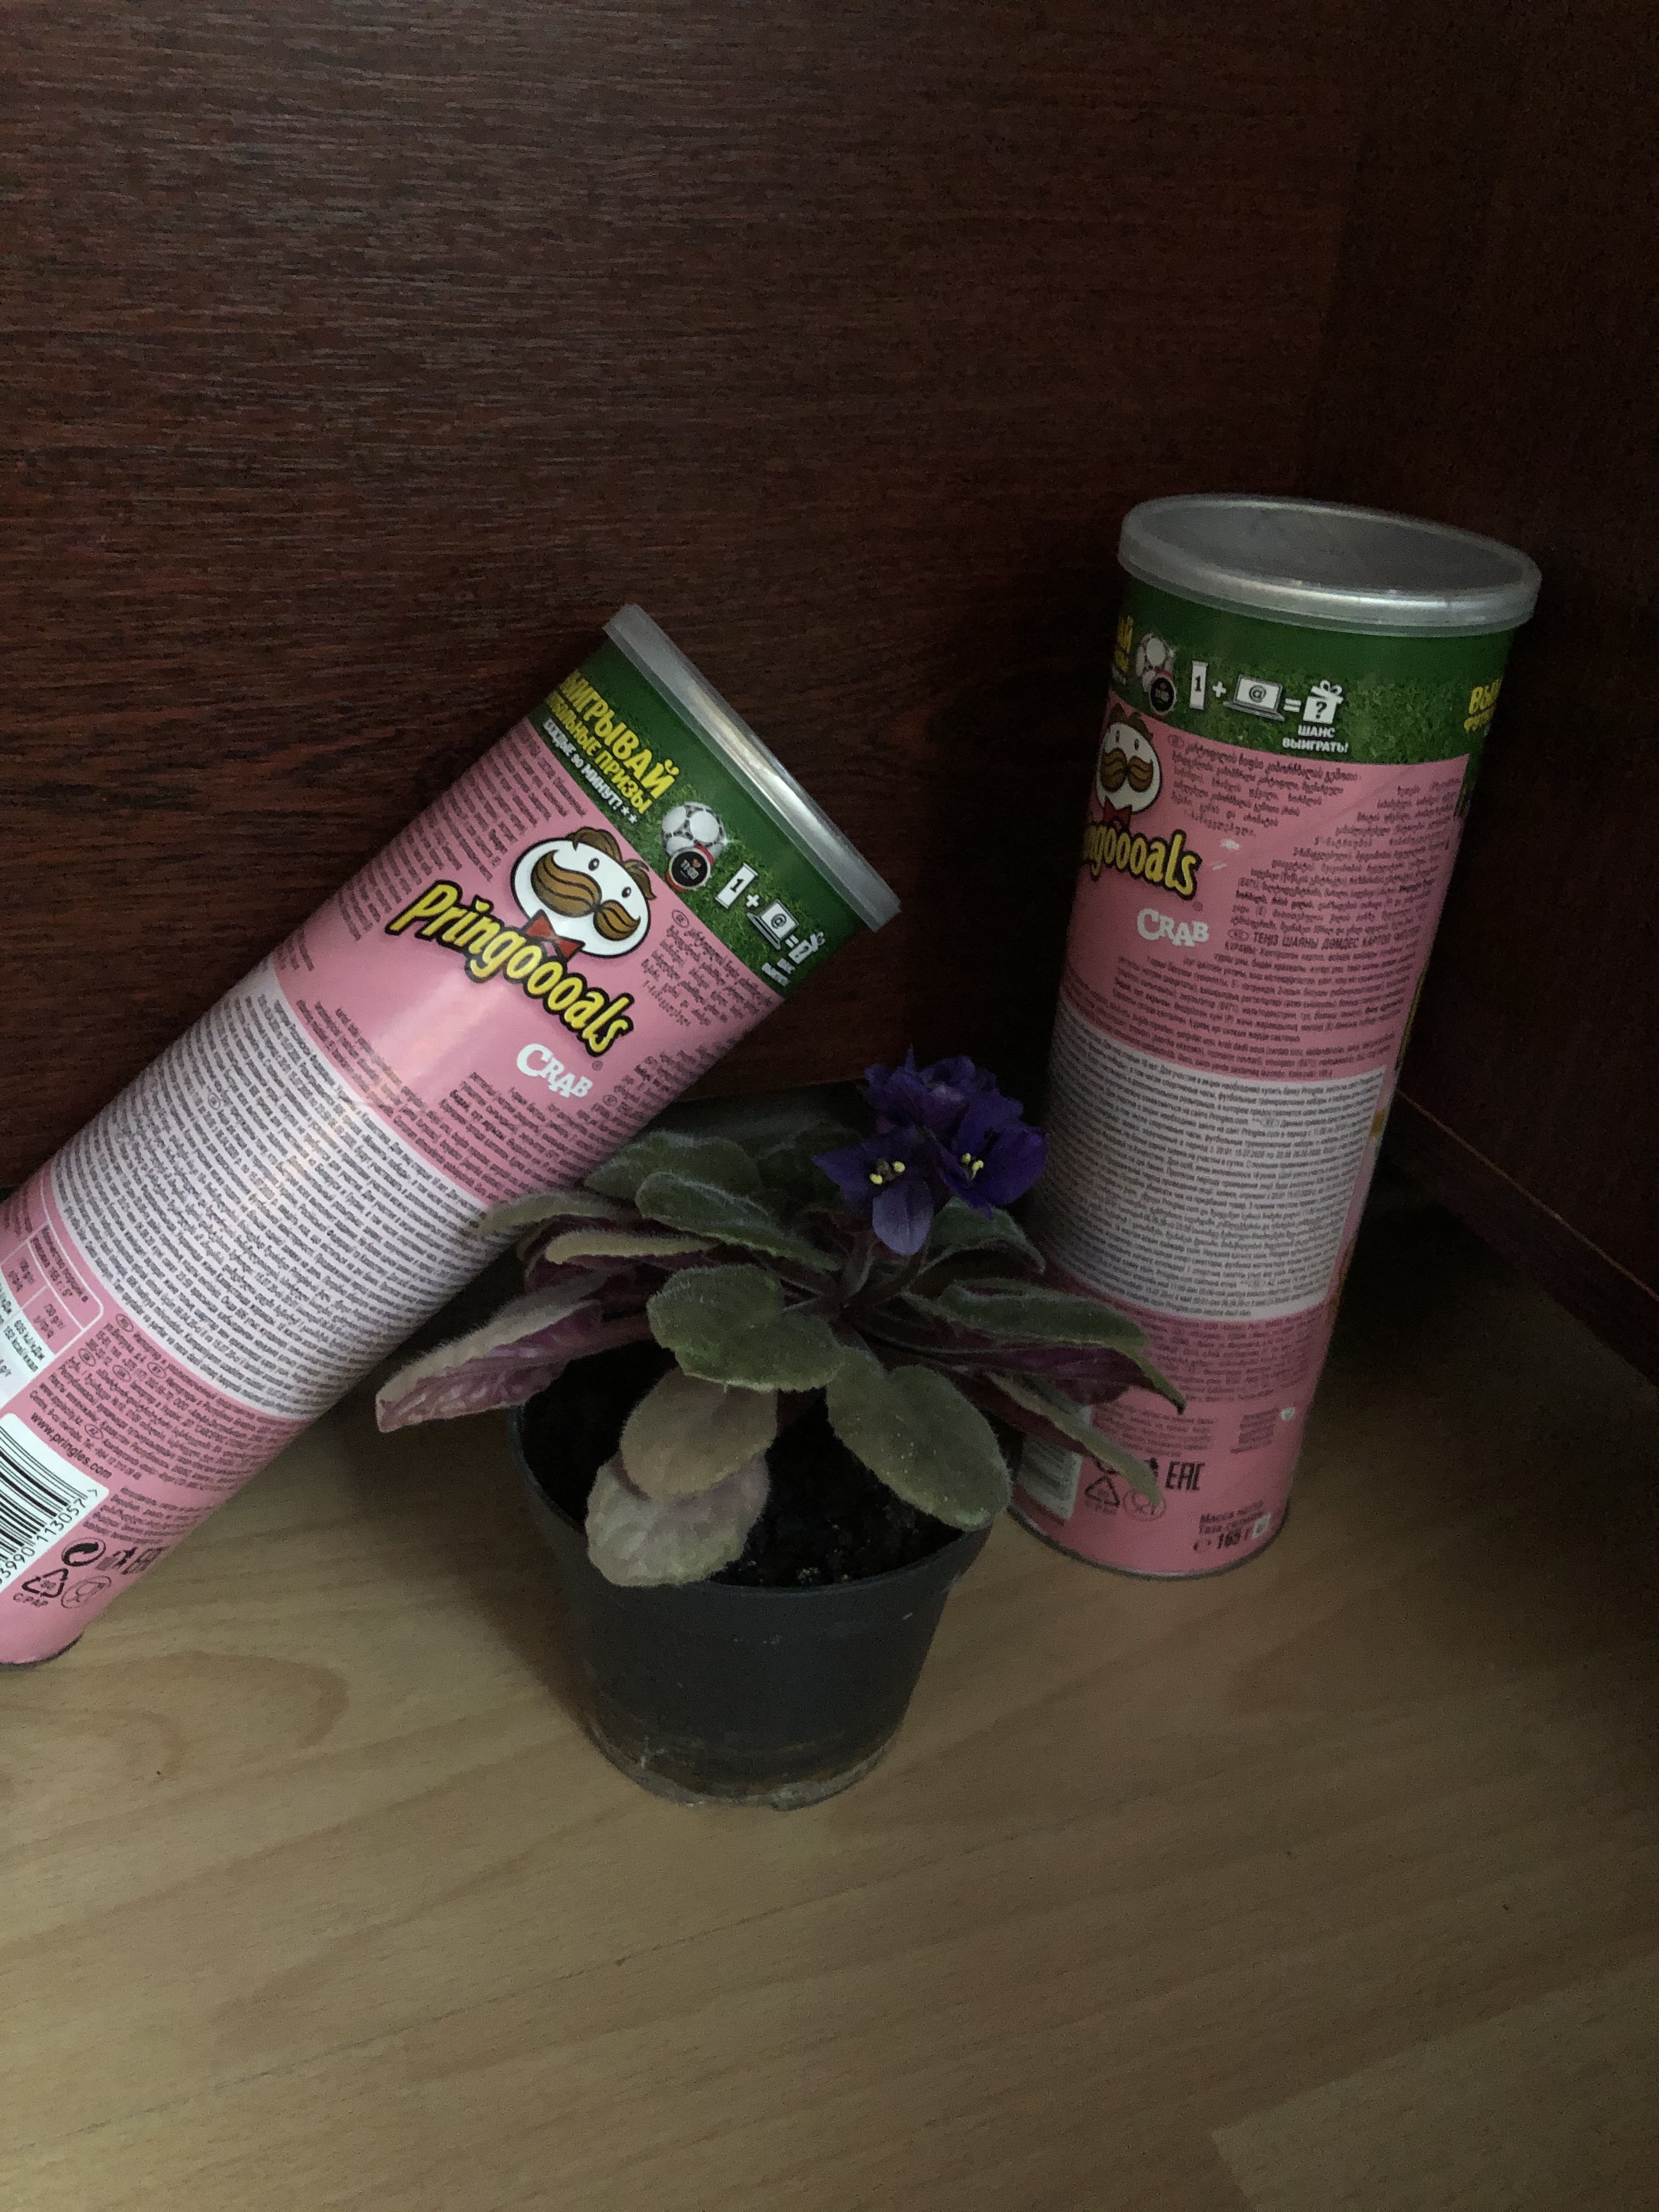ignore: (429, 1015, 1145, 1573)
